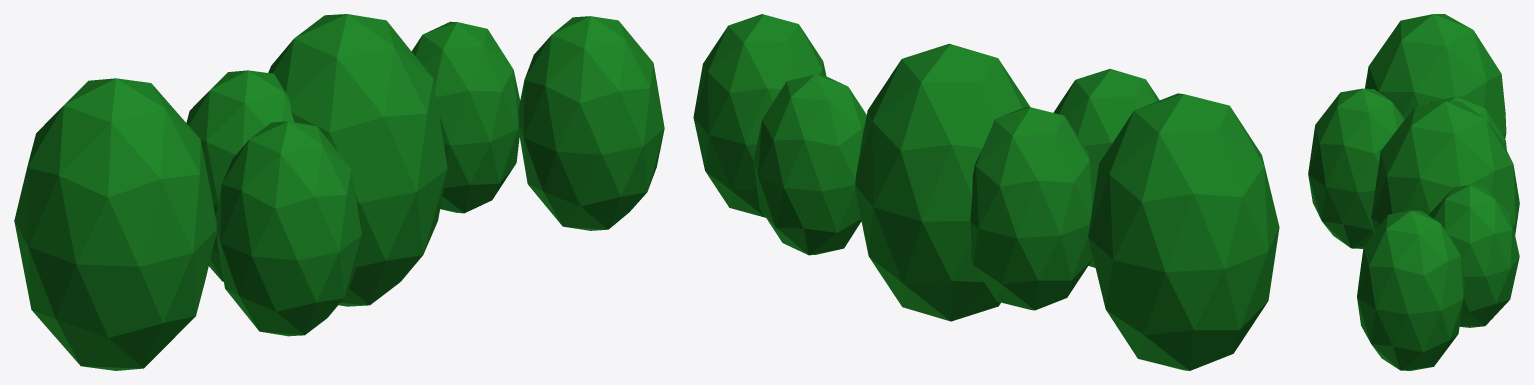
File: blockout1.treecluster5.fbx
The picture shows the model from 3 angles, left to right: view 1: azimuth 30°, elevation 25°; view 2: azimuth 150°, elevation 25°; view 3: azimuth 270°, elevation 25°; orthographic projection. The views are drawn at different scales.
Visible parts, largest first — view 1: Icosphere.019; view 2: Icosphere.019; view 3: Icosphere.019.
Boxes of the visible parts, x1=… form: Icosphere.019: x1=14, y1=14, x2=664, y2=370; Icosphere.019: x1=693, y1=14, x2=1279, y2=370; Icosphere.019: x1=1308, y1=14, x2=1519, y2=370.
Size of the model in its own units: 1159 by 529 by 465.
